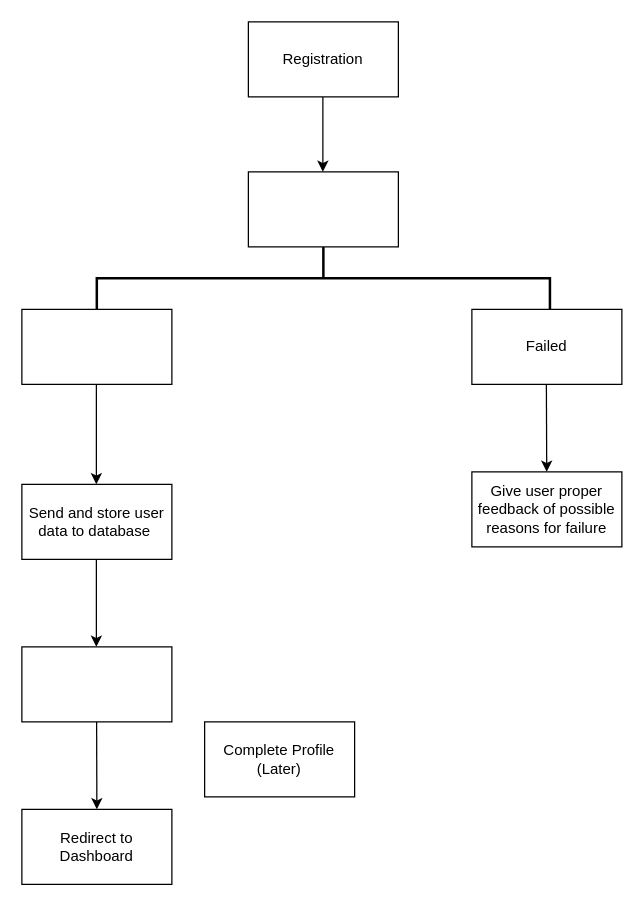
This 644x906 diagram has some shape labels left out. Each missing label, with the box of its shape:
Fields validations Check: (247, 171, 398, 247)
Initiate Session: (21, 646, 172, 722)
Successfull: (21, 308, 172, 384)
